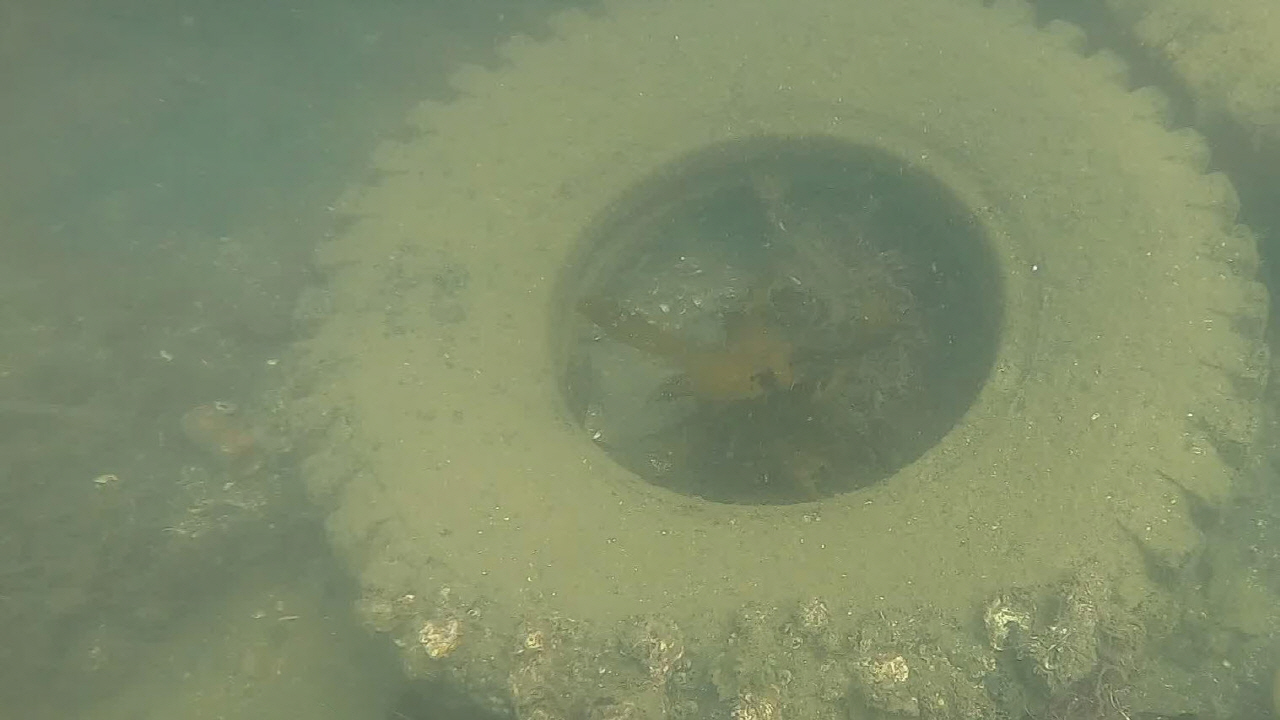tire: (276, 0, 1280, 720)
